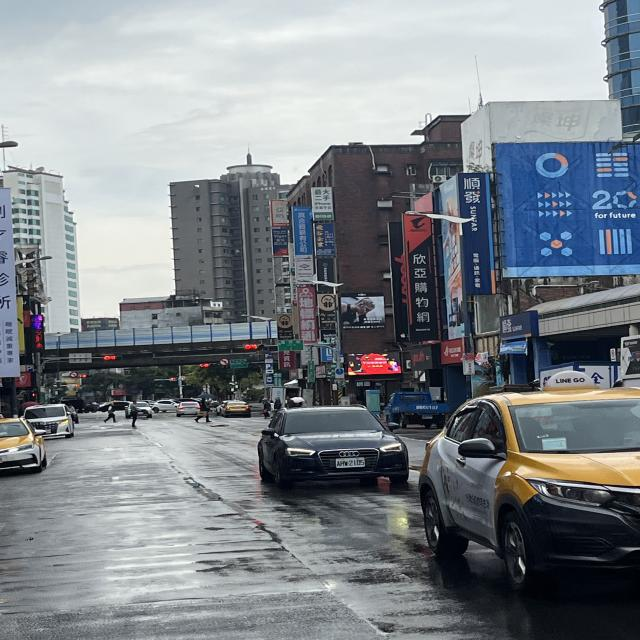red light: (242, 344, 267, 352), (198, 362, 218, 368), (101, 354, 118, 360)
